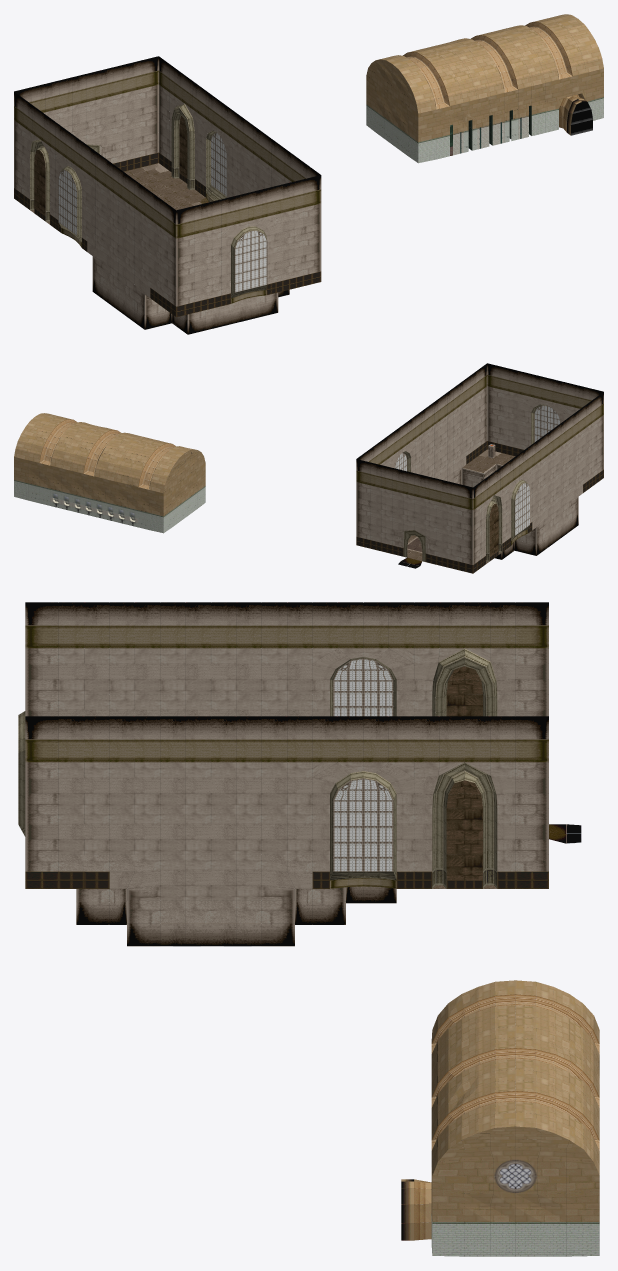
3 renders of one model, top to bottom at view 1: azimuth 30°, elevation 25°; view 2: azimuth 150°, elevation 25°; view 3: azimuth 270°, elevation 25°, orthographic. The views are drawn at different scales.
Parts seen in each view (by area): view 1: T1L8M004_77, T1L8M004_74, T1L8M004_75, T1L8M004_72, T1L8M004_76, T1L8M004_78, T1L8M004_52, T1L8M004_32, T1L8M004_79, T1L8M004_73, T1L8M004_196, T1L8M004_197 (+98 smaller); view 2: T1L8M004_5, T1L8M004_4, T1L8M004_7, T1L8M004_6, T1L8M004_8, T1L8M004_2, T1L8M004_9, T1L8M004_52, T1L8M004_32, T1L8M004_23, T1L8M004_20, T1L8M004_3 (+88 smaller); view 3: T1L8M004_59, T1L8M004_39, T1L8M004_9, T1L8M004_79, T1L8M004_108, T1L8M004_91, T1L8M004_112, T1L8M004_172, T1L8M004_184, T1L8M004_185, T1L8M004_107, T1L8M004_109 (+87 smaller).
Boxes of the visible parts, x1,y1,x2,y2 form: T1L8M004_77: [522, 50, 558, 135]; T1L8M004_74: [441, 70, 477, 155]; T1L8M004_75: [468, 64, 504, 149]; T1L8M004_72: [408, 80, 436, 163]; T1L8M004_76: [496, 57, 531, 142]; T1L8M004_78: [551, 44, 586, 132]; T1L8M004_52: [392, 60, 425, 155]; T1L8M004_32: [376, 55, 409, 144]; T1L8M004_79: [577, 39, 603, 120]; T1L8M004_73: [427, 77, 449, 159]; T1L8M004_196: [221, 221, 250, 256]; T1L8M004_197: [221, 251, 250, 284]; T1L8M004_5: [94, 447, 127, 521]; T1L8M004_4: [116, 452, 149, 527]; T1L8M004_7: [50, 436, 83, 510]; T1L8M004_6: [72, 441, 103, 516]; T1L8M004_8: [28, 430, 60, 505]; T1L8M004_2: [149, 460, 178, 533]; T1L8M004_9: [14, 427, 39, 500]; T1L8M004_52: [171, 446, 197, 517]; T1L8M004_32: [161, 449, 184, 527]; T1L8M004_23: [392, 514, 422, 563]; T1L8M004_20: [410, 519, 436, 565]; T1L8M004_3: [138, 457, 159, 529]; T1L8M004_59: [461, 1112, 515, 1256]; T1L8M004_39: [515, 1112, 566, 1256]; T1L8M004_9: [541, 1119, 599, 1256]; T1L8M004_79: [431, 1126, 464, 1256]; T1L8M004_108: [312, 762, 363, 811]; T1L8M004_91: [363, 762, 413, 811]; T1L8M004_112: [261, 648, 312, 694]; T1L8M004_172: [58, 648, 109, 694]; T1L8M004_184: [58, 762, 109, 808]; T1L8M004_185: [58, 808, 109, 854]; T1L8M004_107: [312, 716, 363, 762]; T1L8M004_109: [312, 808, 363, 857].
Size of the model in its own units: 81.81 by 20 by 45.81.
1 material, 1 textured.
